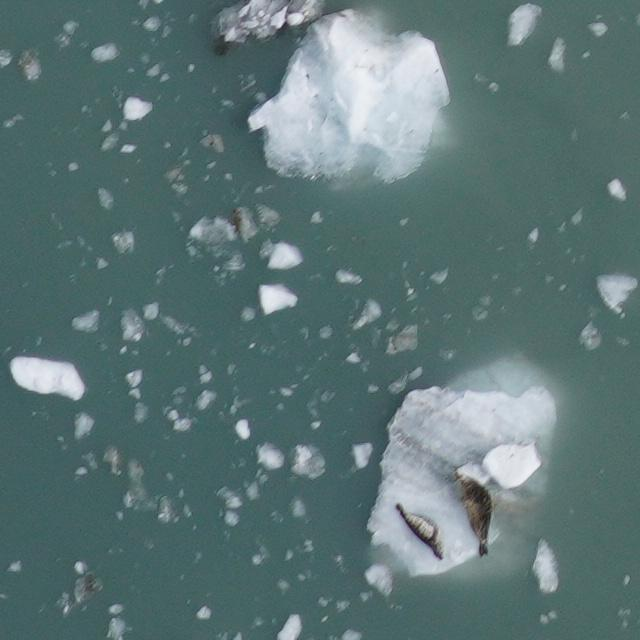seal: (452, 466, 492, 555), (395, 503, 444, 560)
